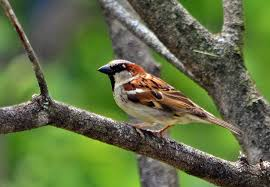hsparrow: (91, 54, 249, 140)
